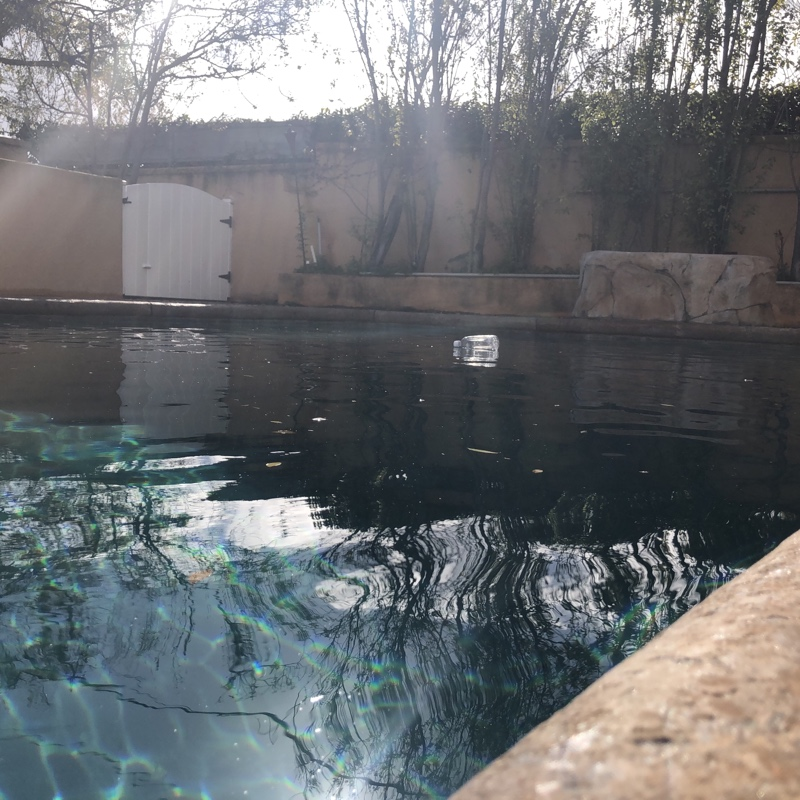Plastic Bottle: (451, 332, 497, 350)
